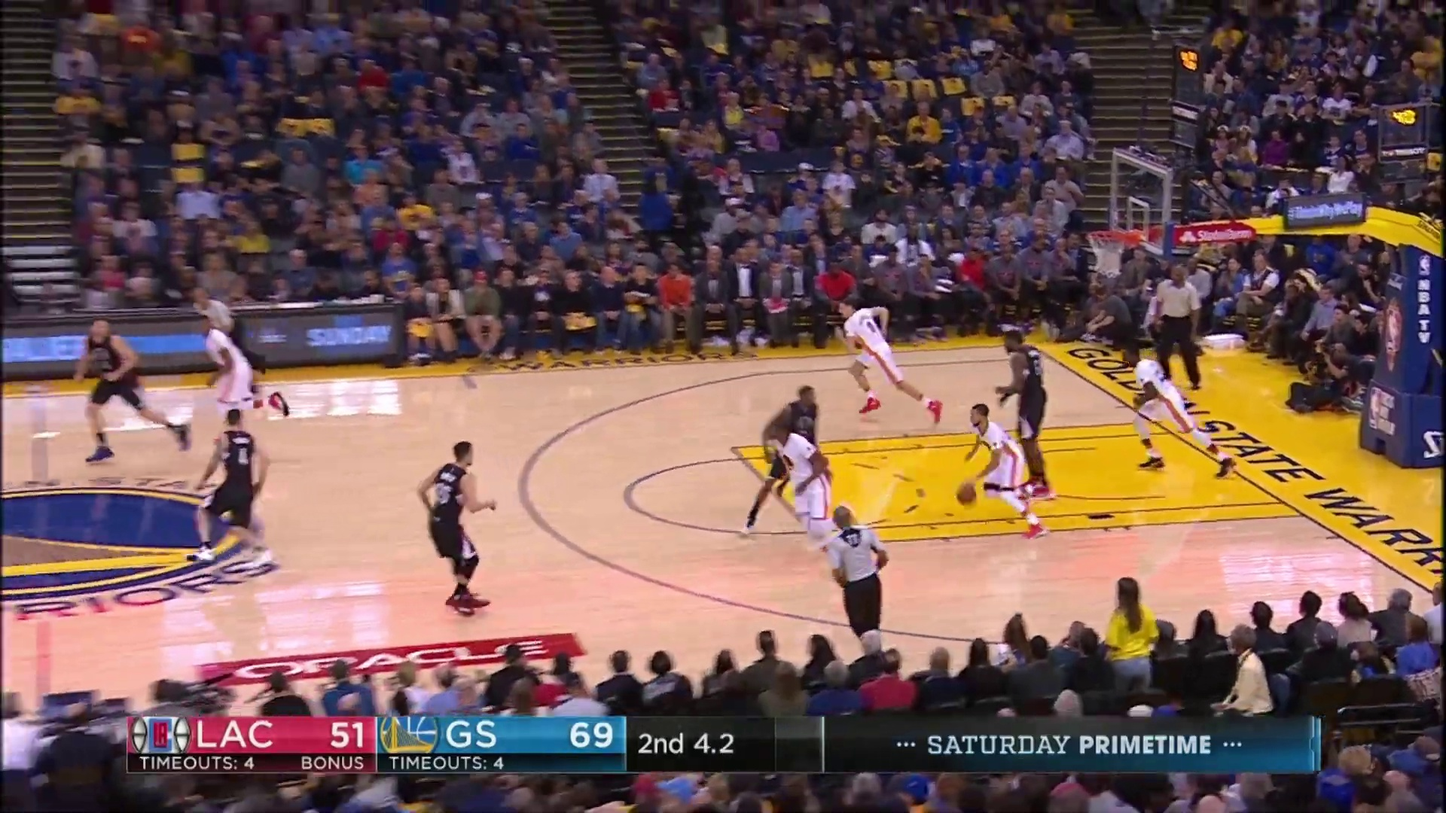basket_hoop: (1049, 124, 1197, 297)
